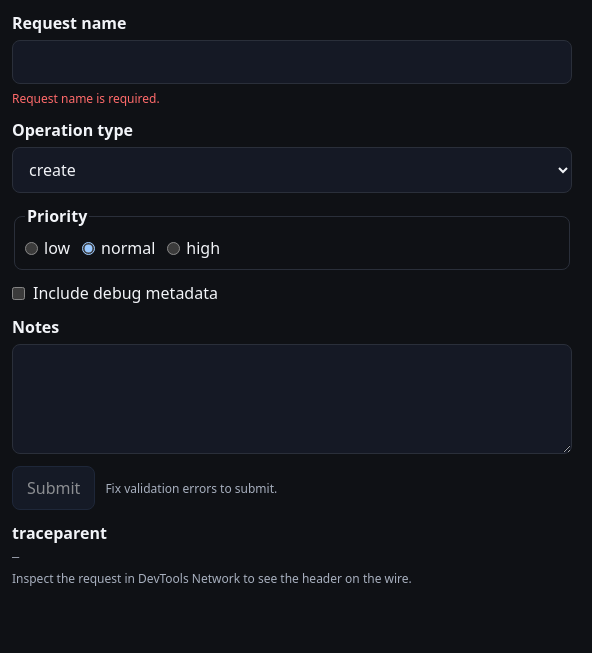
Test case: RequestForm › renders an error state when response is not ok
Type "My request" into the field labelled "Request name". click: (292, 62)
box: top-left (12, 40), bottom-right (572, 84)
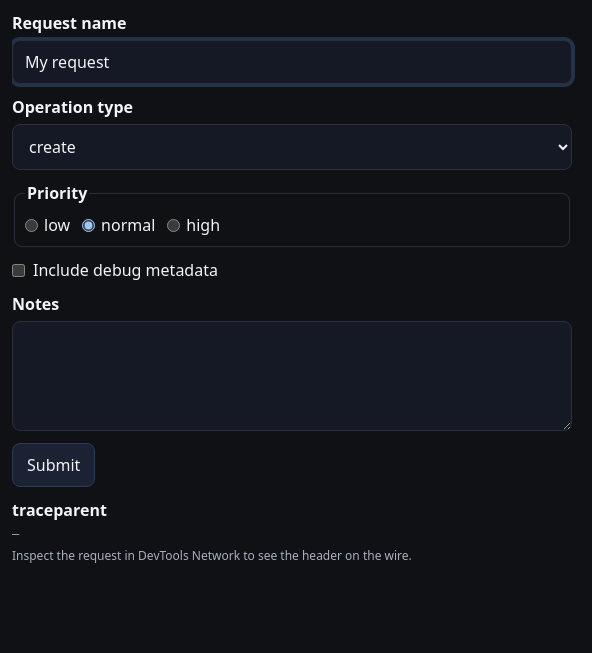
Click the button "Submit". click: (54, 465)
box: top-left (12, 443), bottom-right (95, 487)
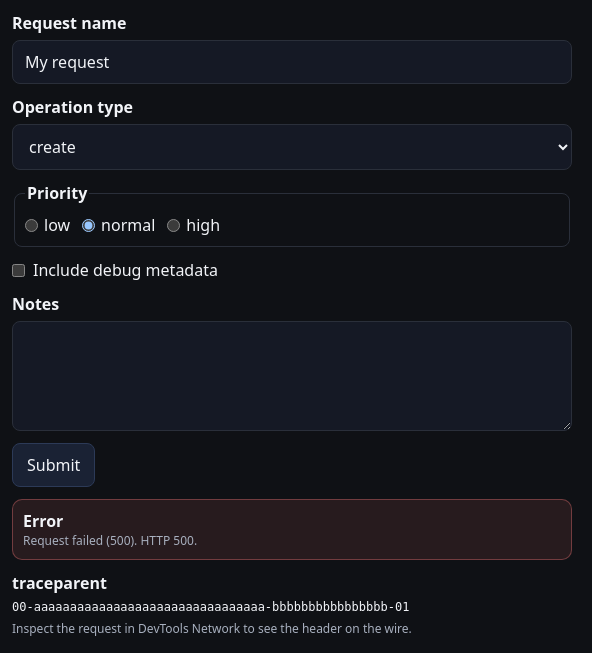
Result: the text "Error" is shown at top-left (23, 510), bottom-right (63, 532)
Result: the text "Request failed (500). HTTP 500." is shown at top-left (23, 532), bottom-right (197, 549)
